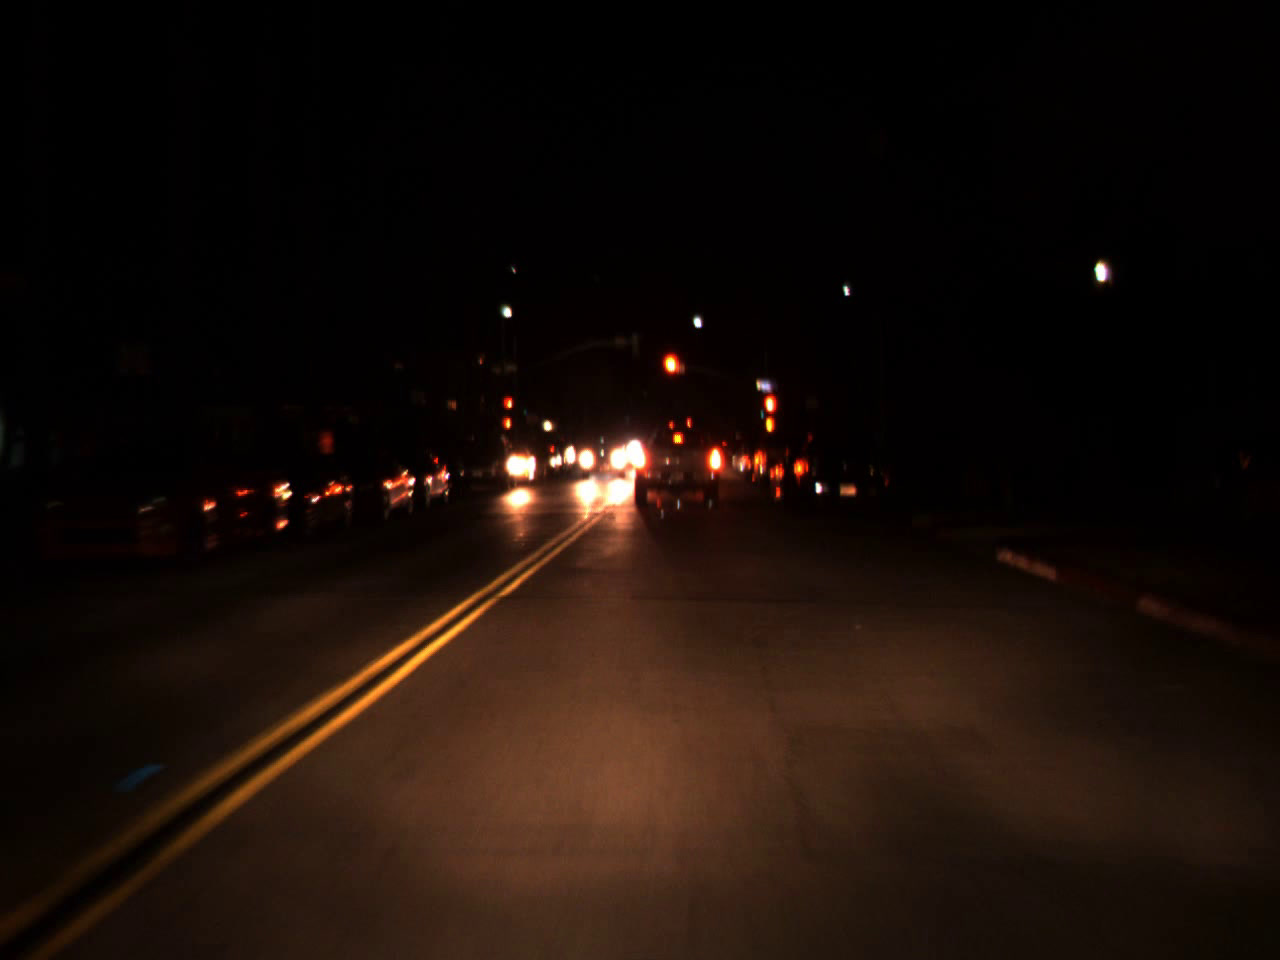stop: (660, 350, 684, 398), (761, 392, 779, 435), (502, 395, 514, 422)
